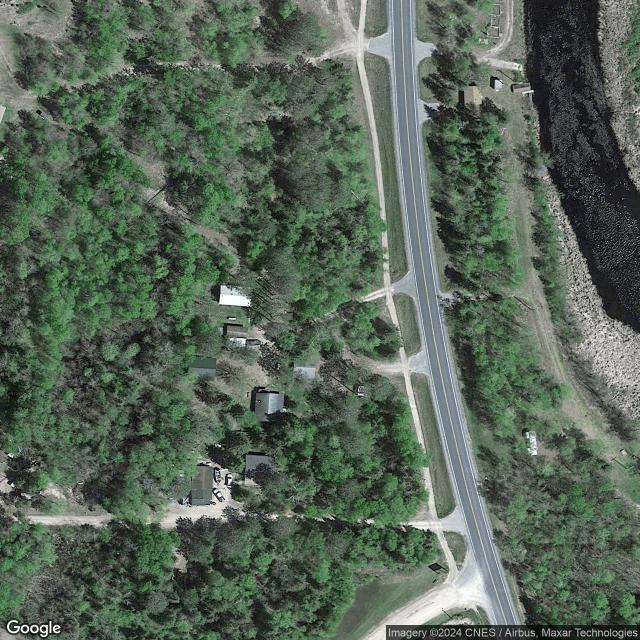Propane: (227, 316, 237, 320)
